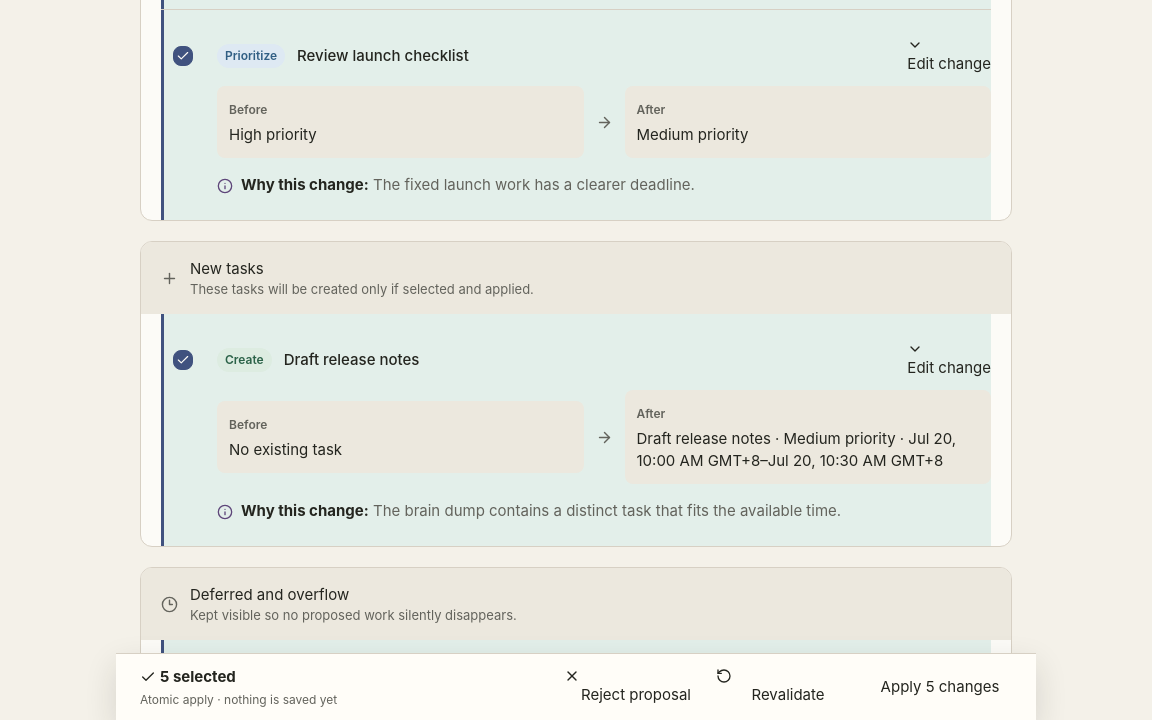
Test: Assistant planner Review › keeps invalid local edits visible and removes them from the applicable count
(page scrolled)
Click the 2nd button "Edit change" at (949, 360), box [907,341,991,379]
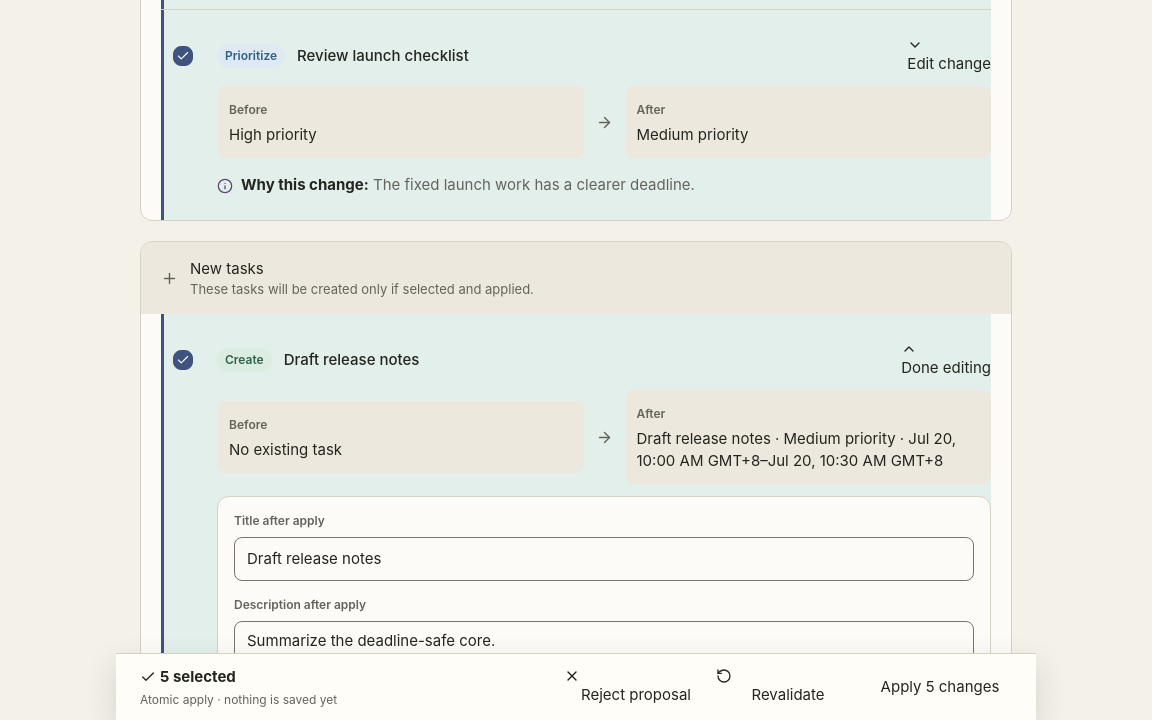
Clear the field labelled "Title after apply" at (604, 559), box [234,537,974,581]
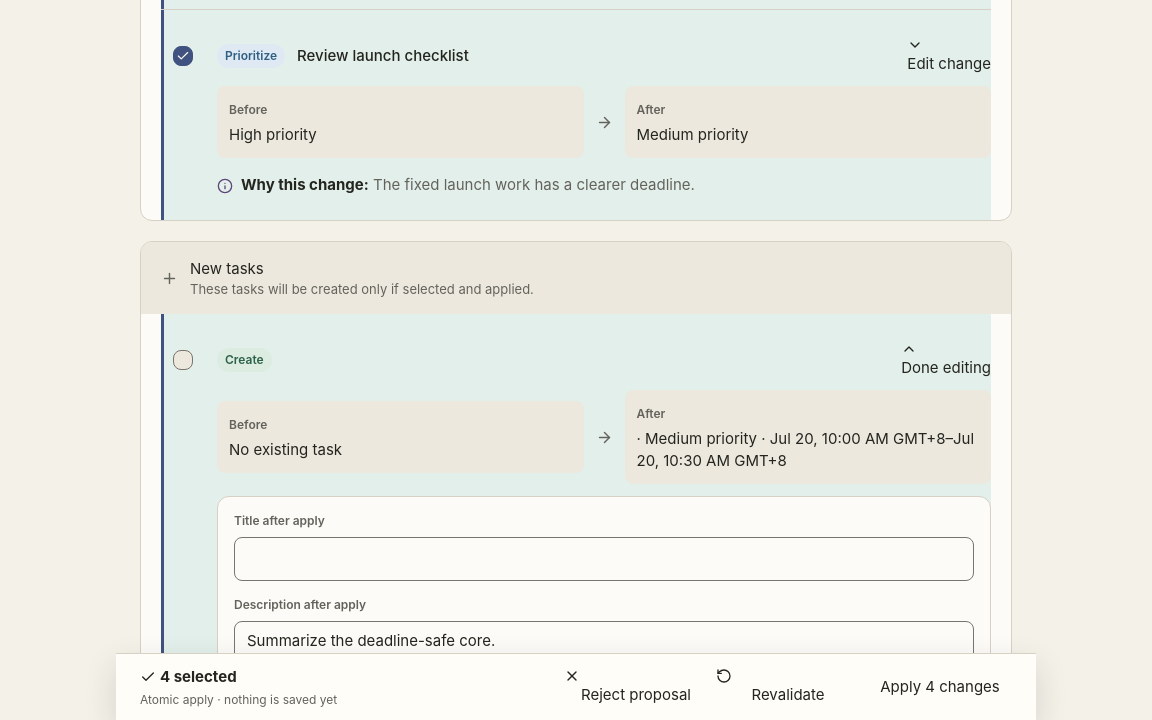
Expected: the checkbox named "Select create action" is disabled, [161,338,205,382]
Expected: the button "Apply 4 changes" is shown, [868,676,1012,698]
